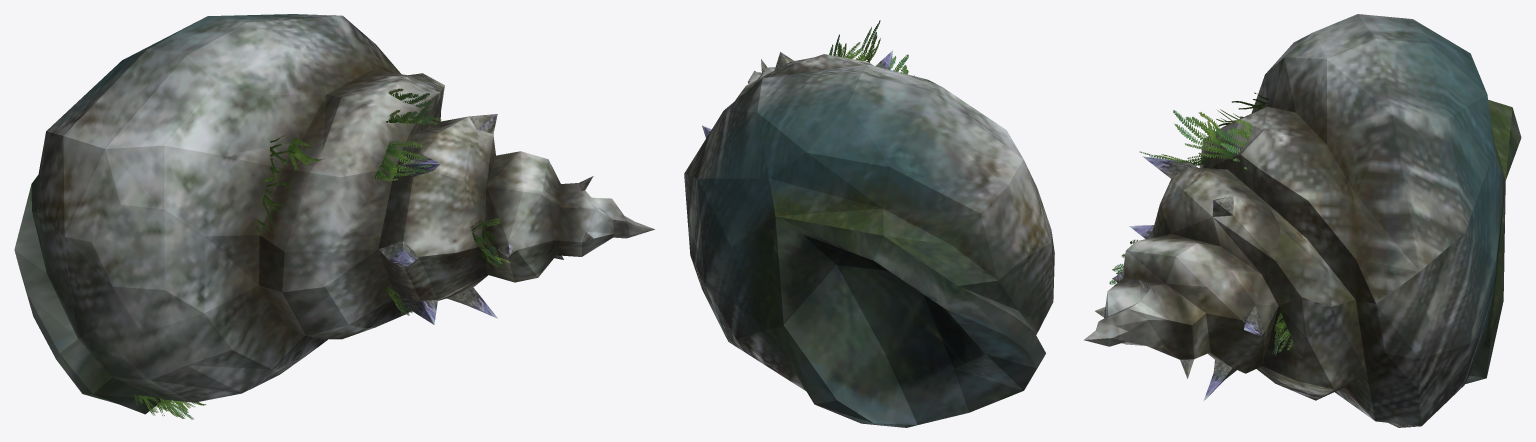
Rendered from huodong_fuben_417_zhiwu05_03.obj.
3 renders of one model, left to right at view 1: azimuth 30°, elevation 25°; view 2: azimuth 150°, elevation 25°; view 3: azimuth 270°, elevation 25°, orthographic. The views are drawn at different scales.
Parts seen in each view (by area): view 1: huodong_fuben_417_zhiwu05_03; view 2: huodong_fuben_417_zhiwu05_03; view 3: huodong_fuben_417_zhiwu05_03.
Boxes of the visible parts, bbox=[...] form: huodong_fuben_417_zhiwu05_03: bbox=[14, 14, 654, 419]; huodong_fuben_417_zhiwu05_03: bbox=[684, 20, 1054, 427]; huodong_fuben_417_zhiwu05_03: bbox=[1084, 14, 1521, 427].
Size of the model in its own units: 38.68 by 29.36 by 30.54.
Materials: 1 (1 with a texture image).
